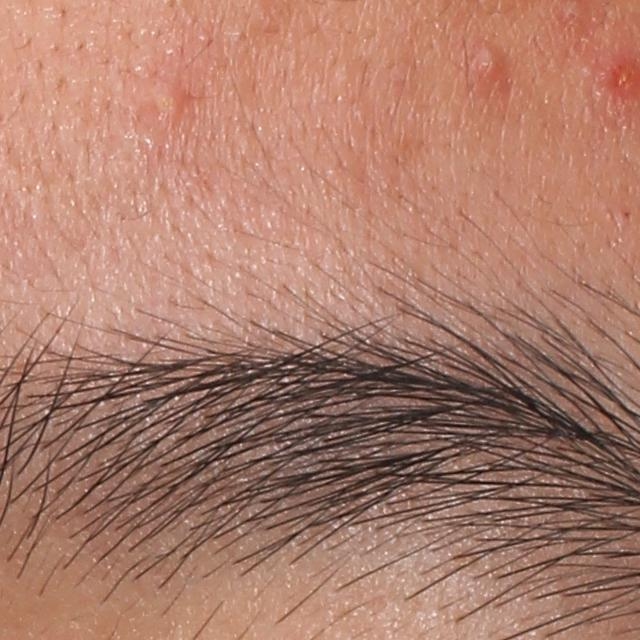comedo: (615, 203, 640, 225)
papule: (468, 42, 503, 87), (153, 82, 185, 119)
